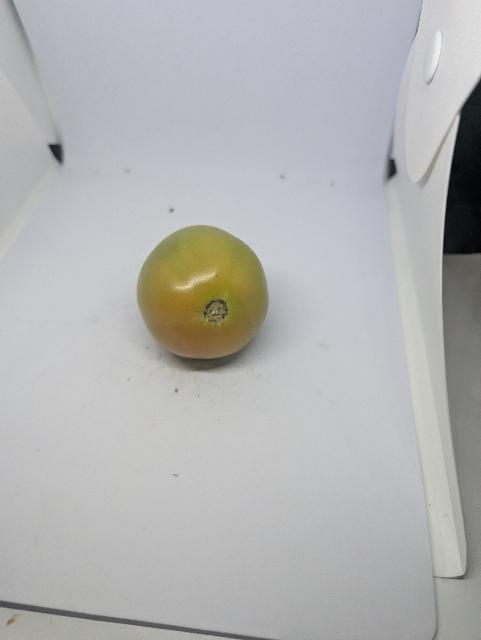breaker: (131, 222, 278, 370)
